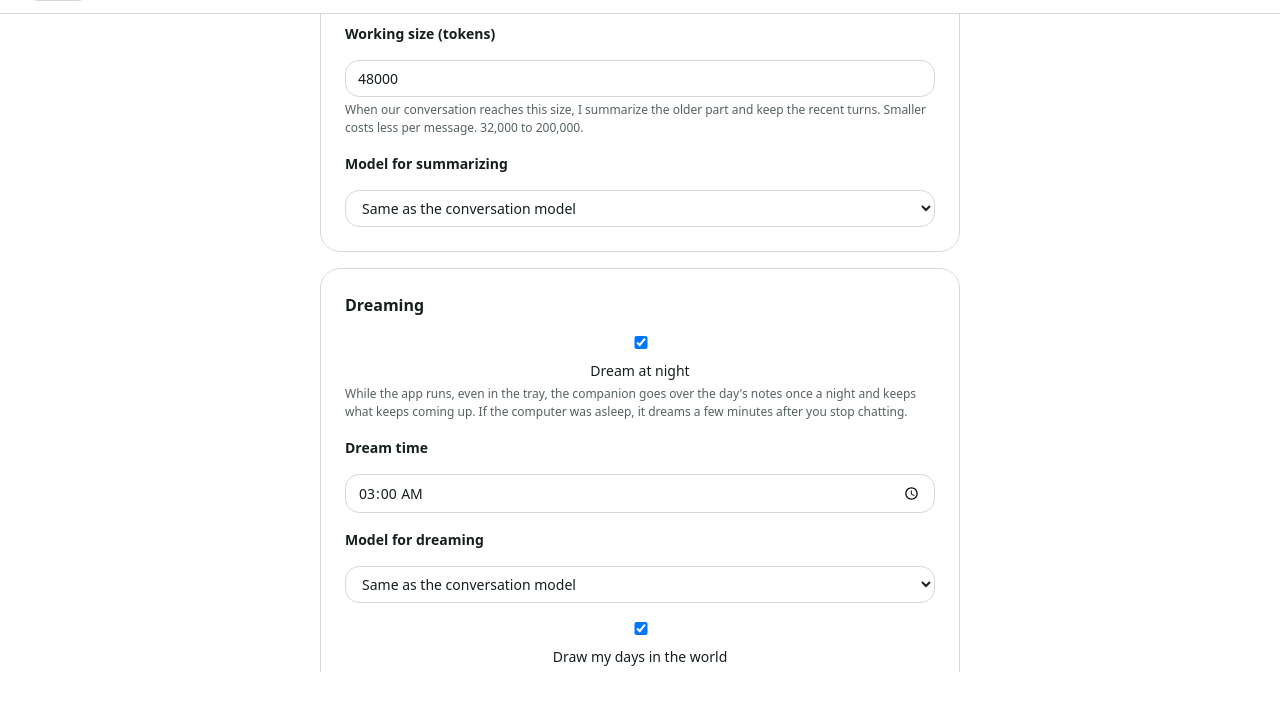
SettingsView memory › shows and saves the dreaming settings
The width and height of the screenshot is (1280, 702).
(page scrolled)
Click the checkbox labelled "Dream at night". click: (640, 342)
box: [346,336,936,349]
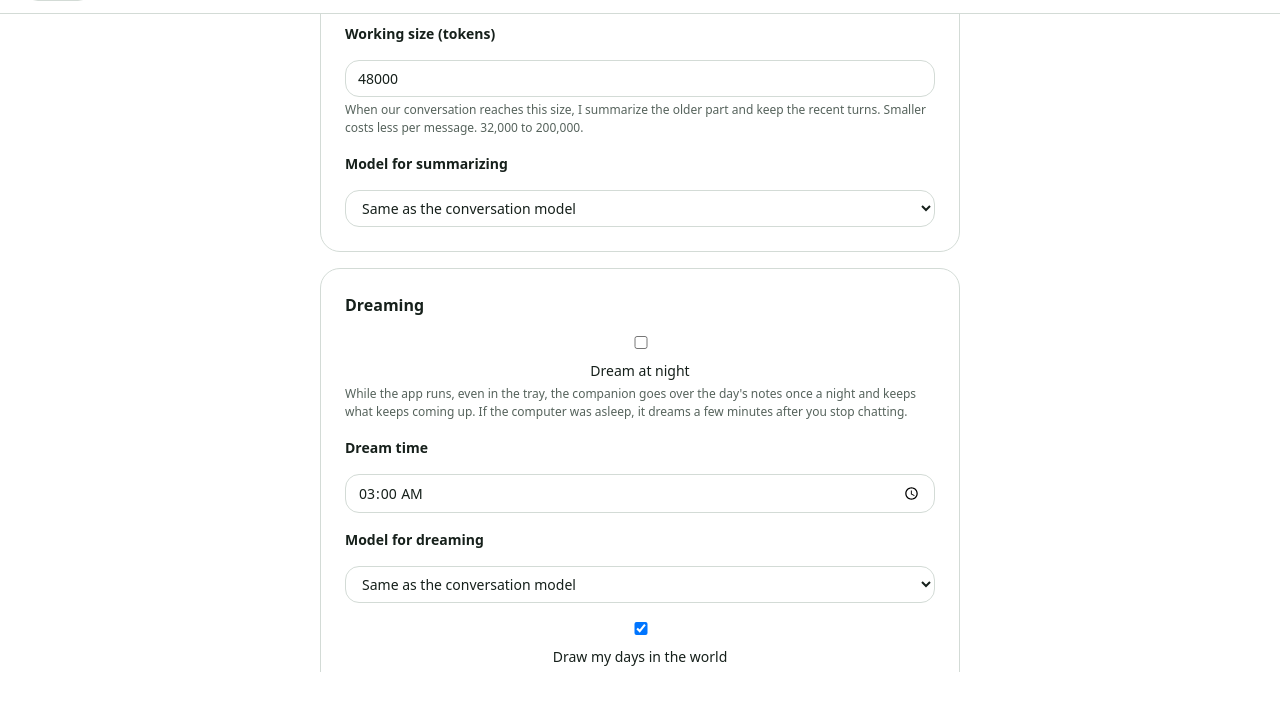
Replace the text in the time field labelled "Dream time" with "14:00". click: (640, 494)
box: [345,474,935,513]
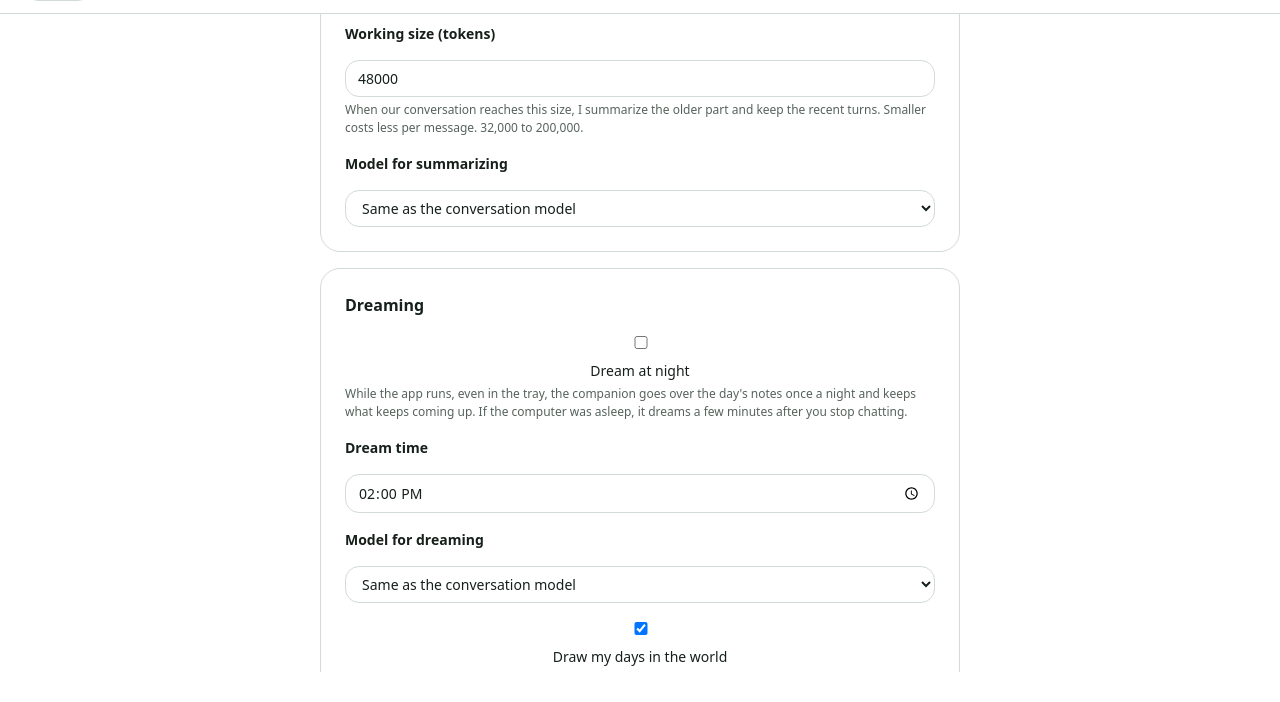
Select "Claude Sonnet 5.5" in the dropdown labelled "Model for dreaming". click: (640, 584)
box: [345,566,935,603]
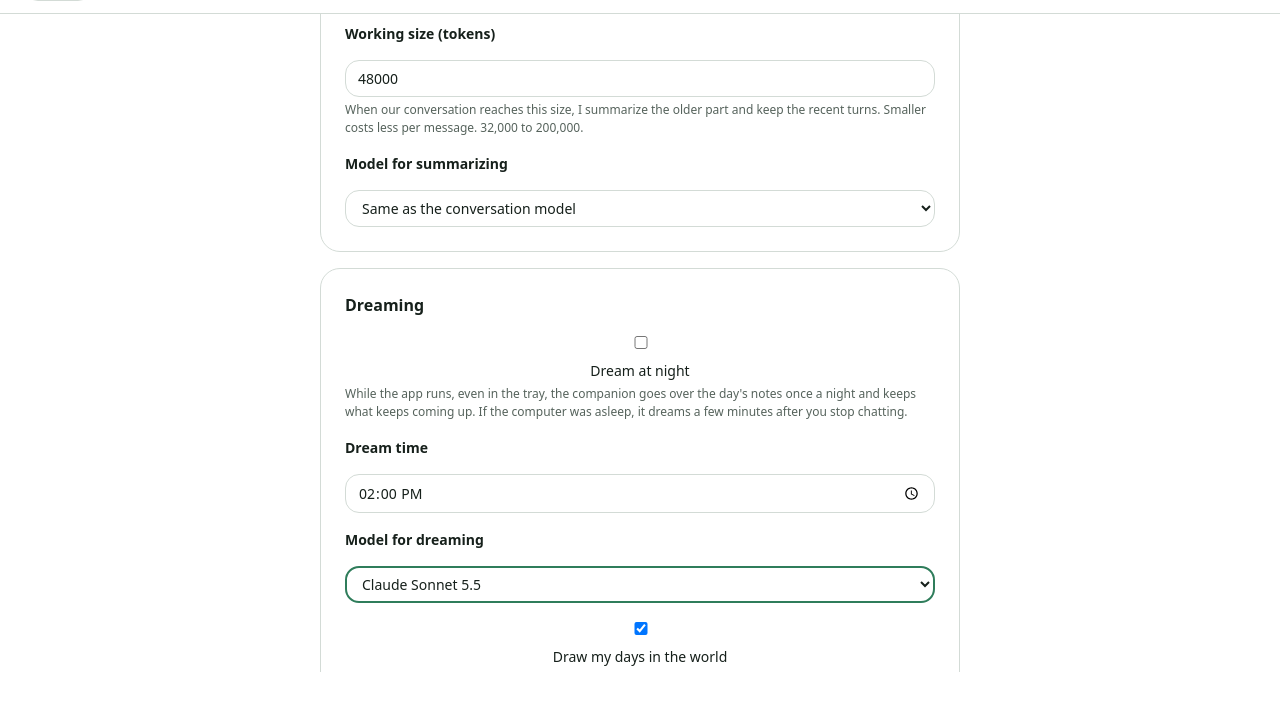
Click the checkbox labelled "Draw my days in the world". click: (640, 628)
box: [346,622,936,635]
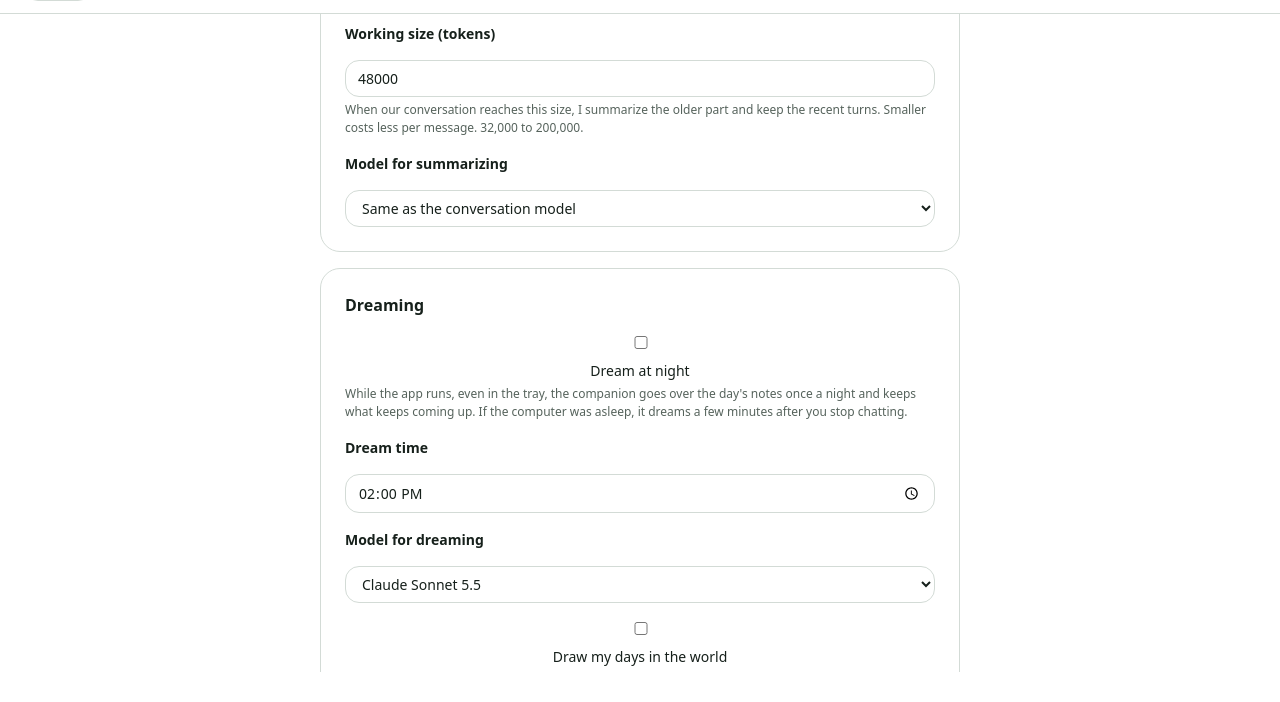
Now the checkbox labelled "Draw my days in the world" is not checked, box [346,622,936,635]
